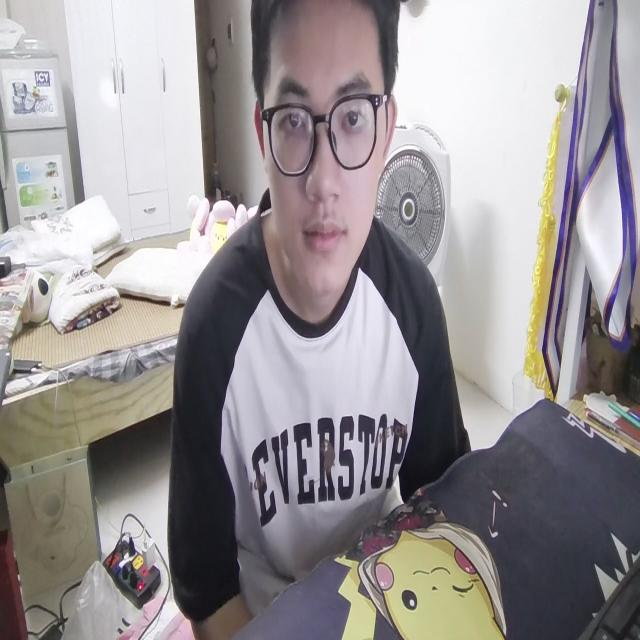student: (161, 6, 467, 640)
